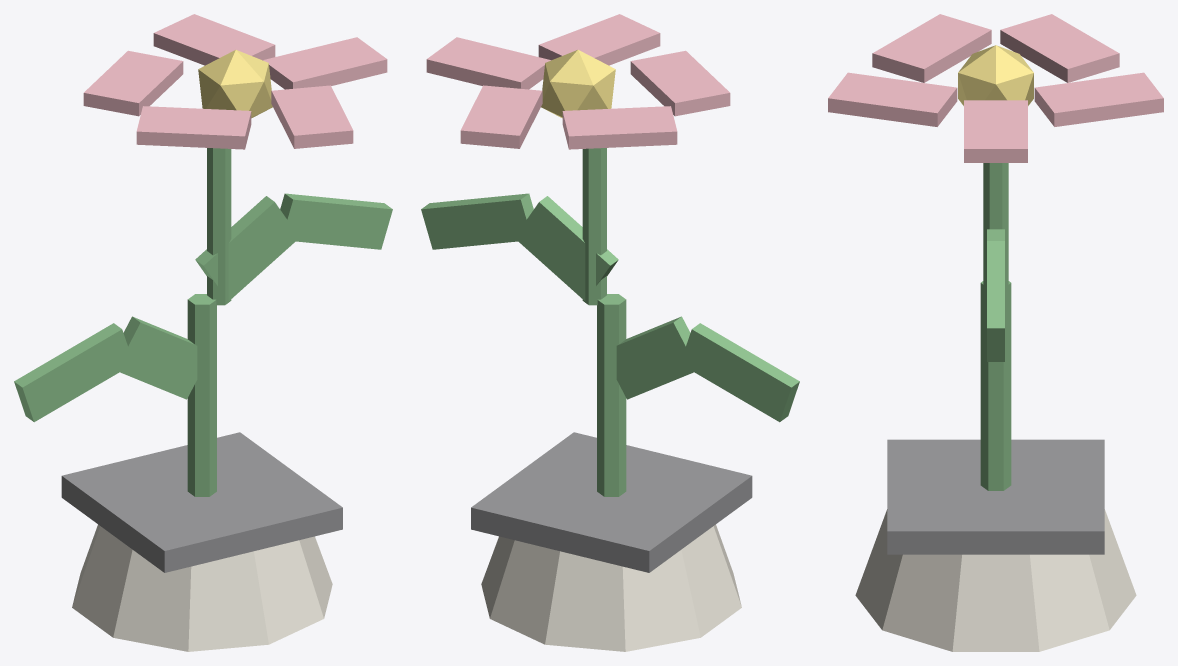
The model's file is 18-Casas_decor_maceta_flor.glb.
3 renders of one model, left to right at view 1: azimuth 30°, elevation 25°; view 2: azimuth 150°, elevation 25°; view 3: azimuth 270°, elevation 25°, orthographic. The views are drawn at different scales.
Parts seen in each view (by area): view 1: SM_MacFlor_Tierra, SM_MacFlor_Maceta, SM_MacFlor_Tallo, SM_MacFlor_Hoja0_La, SM_MacFlor_Hoja1_La, SM_MacFlor_Hoja1_Pe, SM_MacFlor_Petalo.003, SM_MacFlor_Hoja0_Pe, SM_MacFlor_Petalo, SM_MacFlor_Petalo.002, SM_MacFlor_Petalo.004, SM_MacFlor_Centro (+2 smaller); view 2: SM_MacFlor_Tierra, SM_MacFlor_Maceta, SM_MacFlor_Tallo, SM_MacFlor_Hoja0_La, SM_MacFlor_Hoja1_La, SM_MacFlor_Hoja1_Pe, SM_MacFlor_Petalo.002, SM_MacFlor_Hoja0_Pe, SM_MacFlor_Petalo, SM_MacFlor_Petalo.003, SM_MacFlor_Petalo.001, SM_MacFlor_Centro (+2 smaller); view 3: SM_MacFlor_Maceta, SM_MacFlor_Tierra, SM_MacFlor_Tallo, SM_MacFlor_Petalo.001, SM_MacFlor_Petalo.004, SM_MacFlor_Petalo.002, SM_MacFlor_Petalo.003, SM_MacFlor_Petalo, SM_MacFlor_Centro, SM_MacFlor_TalloT, SM_MacFlor_Hoja1_La.
Boxes of the visible parts, bbox=[...] form: SM_MacFlor_Tierra: bbox=[61, 432, 342, 572]; SM_MacFlor_Maceta: bbox=[72, 524, 332, 651]; SM_MacFlor_Tallo: bbox=[187, 294, 216, 496]; SM_MacFlor_Hoja0_La: bbox=[14, 323, 133, 422]; SM_MacFlor_Hoja1_La: bbox=[280, 193, 392, 249]; SM_MacFlor_Hoja1_Pe: bbox=[195, 196, 299, 300]; SM_MacFlor_Petalo.003: bbox=[136, 106, 251, 149]; SM_MacFlor_Hoja0_Pe: bbox=[116, 316, 197, 399]; SM_MacFlor_Petalo: bbox=[262, 37, 387, 89]; SM_MacFlor_Petalo.002: bbox=[83, 50, 183, 116]; SM_MacFlor_Petalo.004: bbox=[271, 85, 353, 148]; SM_MacFlor_Centro: bbox=[198, 50, 272, 118]; SM_MacFlor_Tierra: bbox=[471, 432, 752, 572]; SM_MacFlor_Maceta: bbox=[481, 524, 741, 651]; SM_MacFlor_Tallo: bbox=[597, 294, 626, 496]; SM_MacFlor_Hoja0_La: bbox=[686, 323, 799, 422]; SM_MacFlor_Hoja1_La: bbox=[421, 193, 533, 249]; SM_MacFlor_Hoja1_Pe: bbox=[514, 196, 618, 300]; SM_MacFlor_Petalo.002: bbox=[562, 106, 677, 149]; SM_MacFlor_Hoja0_Pe: bbox=[616, 316, 697, 399]; SM_MacFlor_Petalo: bbox=[426, 37, 551, 89]; SM_MacFlor_Petalo.003: bbox=[630, 50, 730, 116]; SM_MacFlor_Petalo.001: bbox=[460, 85, 542, 148]; SM_MacFlor_Centro: bbox=[541, 50, 615, 118]; SM_MacFlor_Maceta: bbox=[855, 509, 1136, 651]; SM_MacFlor_Tierra: bbox=[887, 439, 1104, 554]; SM_MacFlor_Tallo: bbox=[980, 281, 1011, 490]; SM_MacFlor_Petalo.001: bbox=[1034, 72, 1163, 126]; SM_MacFlor_Petalo.004: bbox=[828, 72, 957, 126]; SM_MacFlor_Petalo.002: bbox=[1000, 14, 1119, 82]; SM_MacFlor_Petalo.003: bbox=[872, 14, 991, 82]; SM_MacFlor_Petalo: bbox=[964, 100, 1027, 162]; SM_MacFlor_Centro: bbox=[958, 45, 1033, 105]; SM_MacFlor_TalloT: bbox=[983, 163, 1008, 299]; SM_MacFlor_Hoja1_La: bbox=[987, 241, 1004, 361].
Bounding box in the file's own units: 0.3531 × 0.49 × 0.2627.
